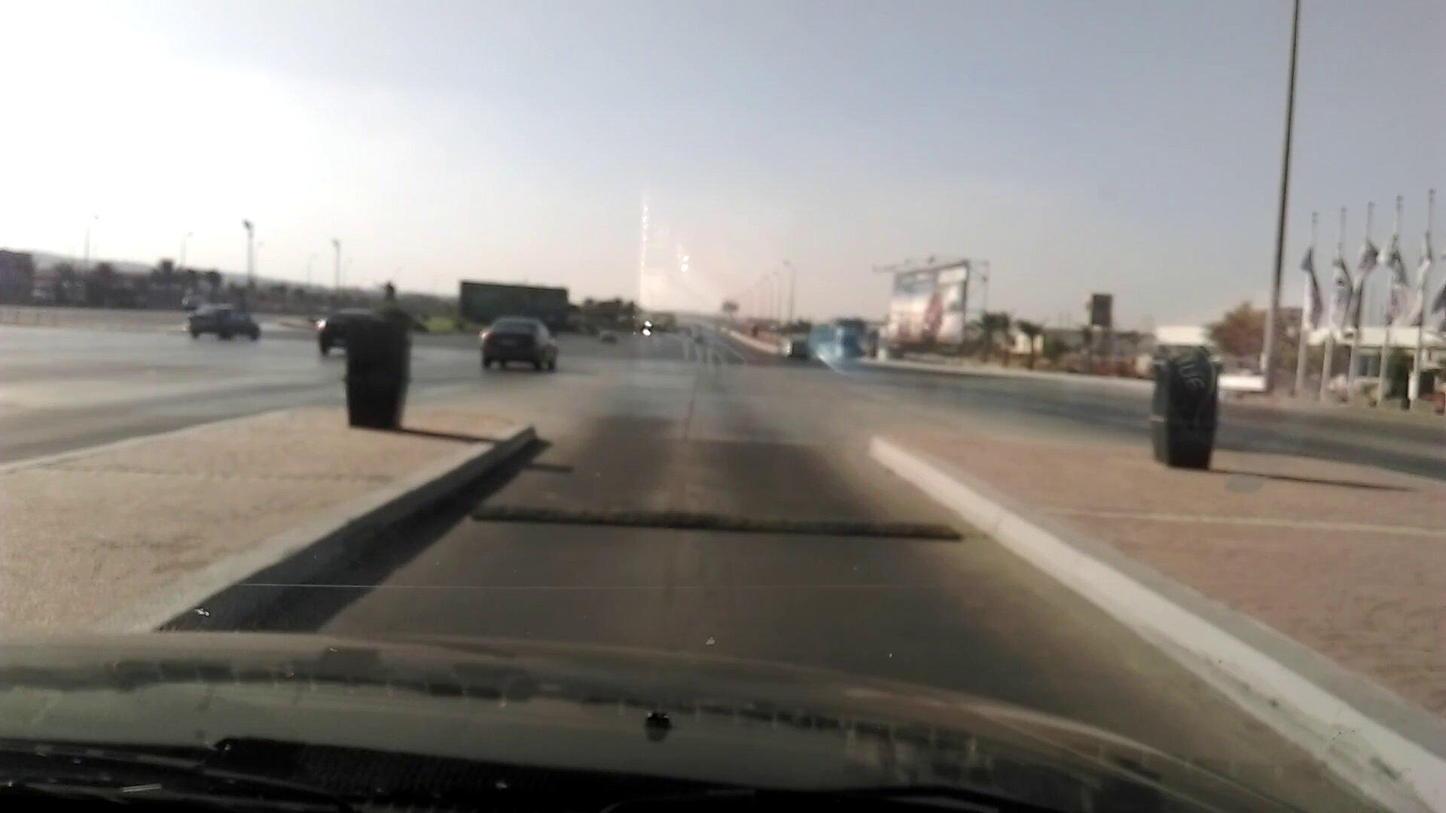Bump: (439, 476, 1000, 549)
